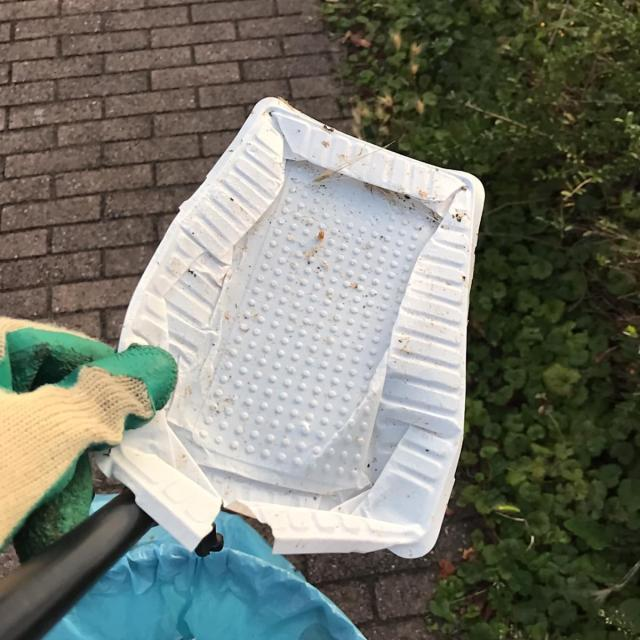Plastic: (85, 89, 488, 564)
